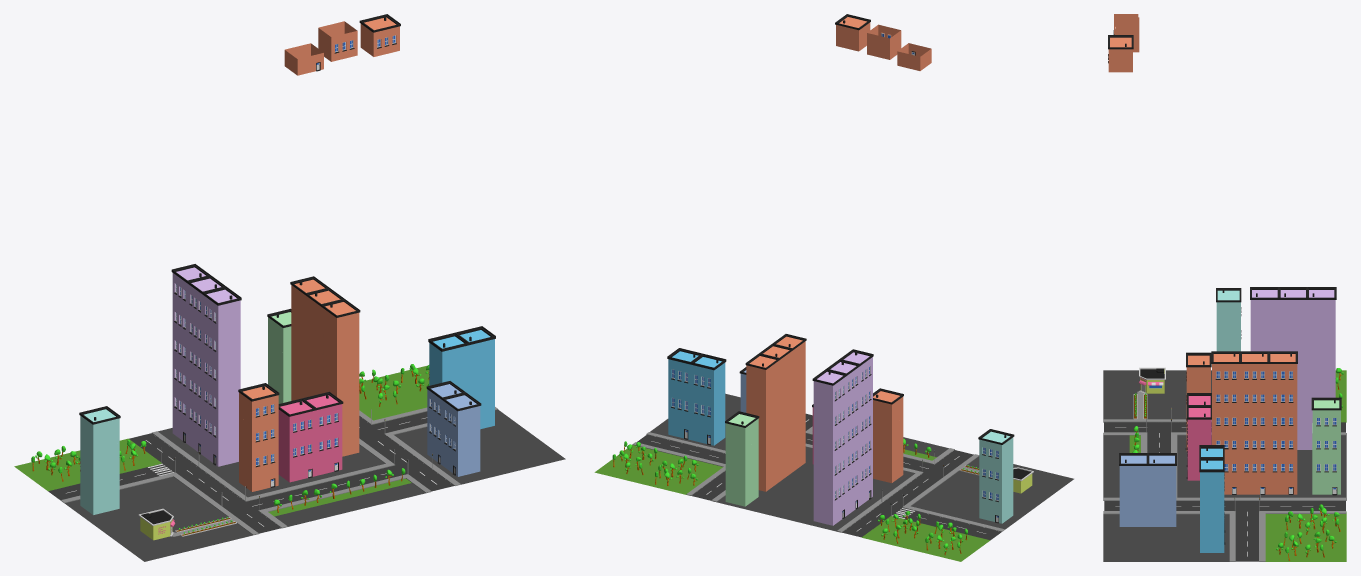
The model's file is map.fbx.
The picture shows the model from 3 angles, left to right: view 1: azimuth 30°, elevation 25°; view 2: azimuth 150°, elevation 25°; view 3: azimuth 270°, elevation 25°; orthographic projection. The views are drawn at different scales.
Visible parts, largest first — view 1: buildings, land, road, tratuar, trees, Cube.010, Cube.001, Cube.003; view 2: buildings, land, road, tratuar, trees, Cube.010, Cube.001, Cube.003; view 3: buildings, land, road, tratuar, trees, Cube.010, Cube.001.
Boxes of the visible parts, x1=… form: buildings: x1=79, y1=264, x2=495, y2=540; land: x1=14, y1=365, x2=565, y2=561; road: x1=48, y1=411, x2=453, y2=533; tratuar: x1=61, y1=407, x2=498, y2=536; trees: x1=31, y1=364, x2=429, y2=536; Cube.010: x1=359, y1=14, x2=400, y2=56; Cube.001: x1=318, y1=21, x2=357, y2=61; Cube.003: x1=284, y1=43, x2=323, y2=75; buildings: x1=667, y1=334, x2=1033, y2=525; land: x1=594, y1=393, x2=1073, y2=561; road: x1=637, y1=413, x2=1001, y2=540; tratuar: x1=632, y1=426, x2=1004, y2=532; trees: x1=612, y1=438, x2=979, y2=555; Cube.010: x1=835, y1=14, x2=870, y2=51; Cube.001: x1=867, y1=24, x2=901, y2=59; Cube.003: x1=897, y1=43, x2=931, y2=70; buildings: x1=1119, y1=287, x2=1341, y2=552; land: x1=1103, y1=370, x2=1346, y2=561; road: x1=1104, y1=422, x2=1345, y2=561; tratuar: x1=1103, y1=391, x2=1346, y2=561; trees: x1=1132, y1=368, x2=1343, y2=560; Cube.010: x1=1108, y1=35, x2=1133, y2=72; Cube.001: x1=1114, y1=17, x2=1139, y2=52.
Size of the model in its own units: 3738 by 4021 by 2005.
